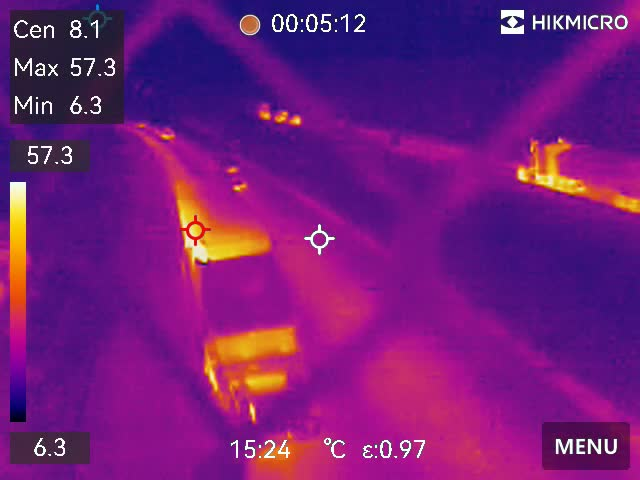heavyTruck: (177, 179, 307, 428), (510, 120, 640, 209)
